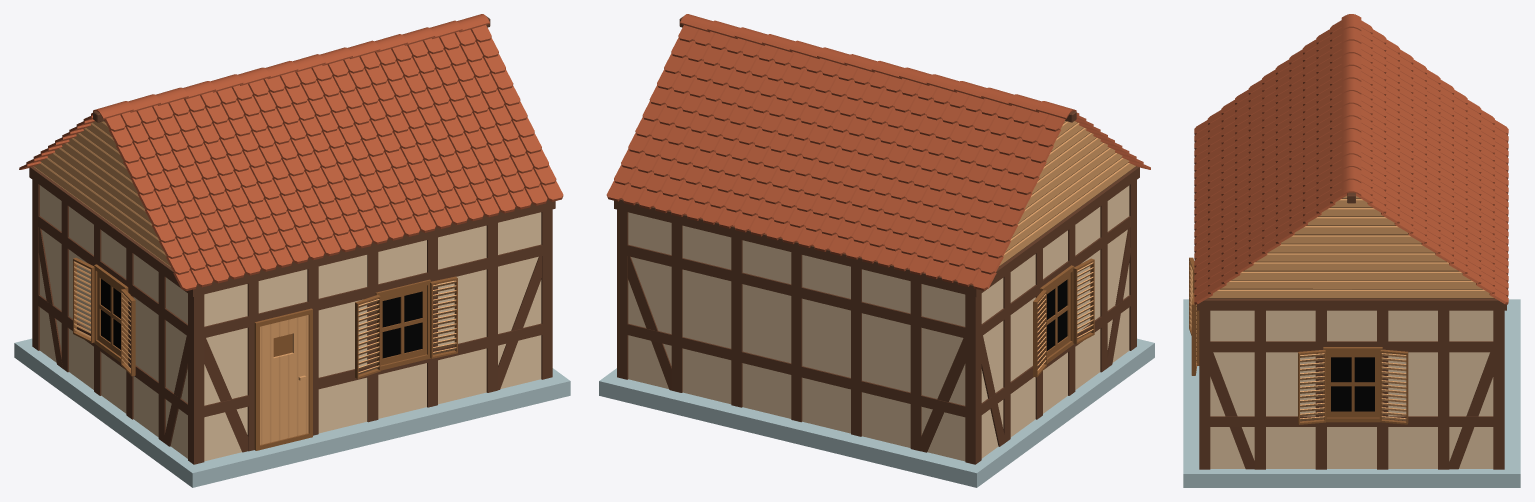
The model's file is House.fbx.
3 views of the same model, side by side, from view 1: azimuth 30°, elevation 25°; view 2: azimuth 150°, elevation 25°; view 3: azimuth 270°, elevation 25° (orthographic). The views are drawn at different scales.
Parts seen in each view (by area): view 1: Dach vorne, Hauptteil, Untergrund, Tür, Seiten, Dachpfannen, Haupt, Haupt 2, Cube.003, Cube.002, Fensterladen.001, Fensterladen (+8 smaller); view 2: Hauptteil, Dach hinten, Untergrund, Seiten, Dachpfannen, Haupt 2, Cube.005, Cube.004, Cube.006, Fensterladen Rahmen.003, Cube.008, Fensterladen Rahmen.002 (+2 smaller); view 3: Hauptteil, Dach vorne, Dach hinten, Seiten2, Untergrund, Haupt 3, Dachpfannen, Cube.009, Cube.007, Fensterladen.005, Fensterladen.004, Fensterladen Rahmen.005 (+2 smaller).
Boxes of the visible parts, left/top/right/bottom form: Dach vorne: left=104, top=25, right=563, bottom=290; Hauptteil: left=29, top=166, right=555, bottom=464; Untergrund: left=14, top=338, right=570, bottom=487; Tür: left=254, top=308, right=312, bottom=450; Seiten: left=33, top=121, right=170, bottom=266; Dachpfannen: left=93, top=14, right=489, bottom=119; Haupt: left=375, top=279, right=430, bottom=370; Haupt 2: left=94, top=264, right=128, bottom=364; Cube.003: left=498, top=256, right=541, bottom=390; Cube.002: left=204, top=338, right=248, bottom=452; Fensterladen.001: left=433, top=280, right=456, bottom=354; Fensterladen: left=358, top=299, right=379, bottom=374; Hauptteil: left=614, top=166, right=1139, bottom=464; Dach hinten: left=606, top=25, right=1065, bottom=290; Untergrund: left=599, top=338, right=1154, bottom=487; Seiten: left=999, top=121, right=1136, bottom=266; Dachpfannen: left=680, top=14, right=1076, bottom=119; Haupt 2: left=1040, top=265, right=1074, bottom=365; Cube.005: left=627, top=256, right=671, bottom=390; Cube.004: left=921, top=338, right=965, bottom=452; Cube.006: left=1107, top=227, right=1130, bottom=367; Fensterladen Rahmen.003: left=1073, top=258, right=1094, bottom=344; Cube.008: left=981, top=335, right=1005, bottom=446; Fensterladen Rahmen.002: left=1033, top=290, right=1046, bottom=377; Hauptteil: left=1197, top=298, right=1506, bottom=469; Dach vorne: left=1194, top=20, right=1347, bottom=304; Dach hinten: left=1356, top=20, right=1508, bottom=304; Seiten2: left=1208, top=196, right=1494, bottom=298; Untergrund: left=1183, top=299, right=1520, bottom=487; Haupt 3: left=1323, top=347, right=1382, bottom=422; Dachpfannen: left=1341, top=14, right=1361, bottom=195; Cube.009: left=1449, top=352, right=1493, bottom=469; Cube.007: left=1210, top=352, right=1254, bottom=469; Fensterladen.005: left=1381, top=353, right=1406, bottom=420; Fensterladen.004: left=1300, top=353, right=1324, bottom=420; Fensterladen Rahmen.005: left=1380, top=349, right=1408, bottom=424.
Bounding box in the file's own units: 1.91 × 1.46 × 1.5.
